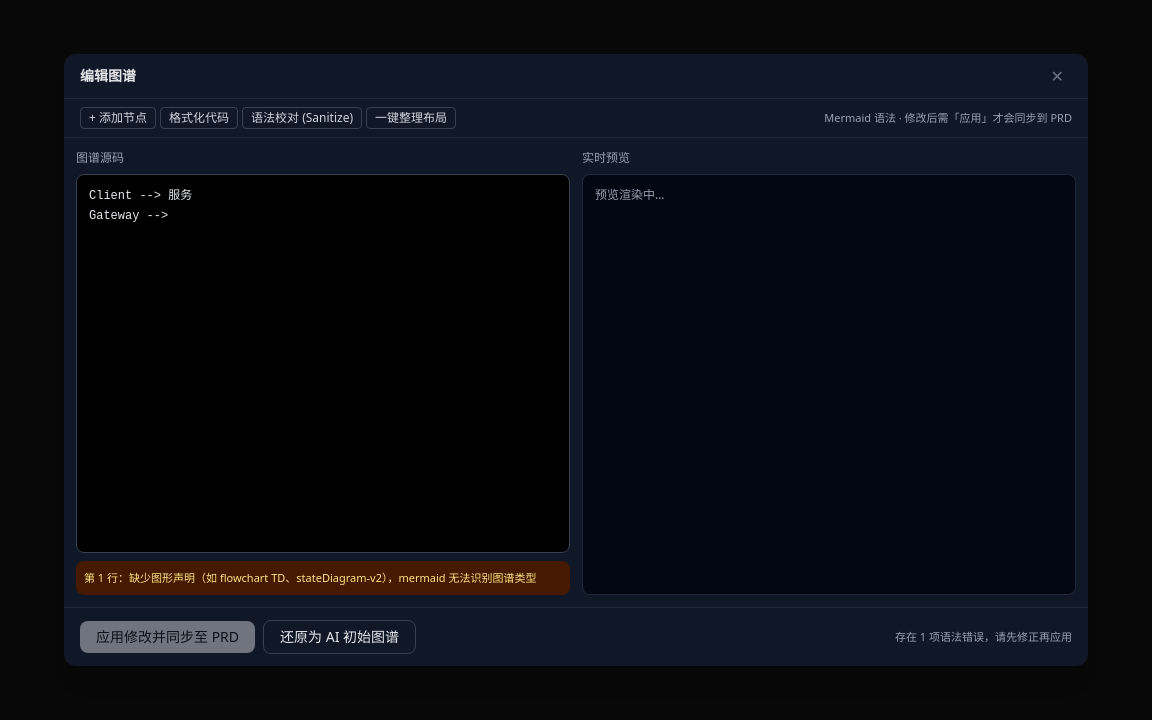
Test: MermaidEditorModal W27：语法校对与布局整理 › 「语法校对 (Sanitize)」修补畸形代码并提示修复处数
This screenshot has width=1152, height=720.
Click the button "语法校对 (Sanitize)".
click(302, 118)  # box [242,107,362,129]
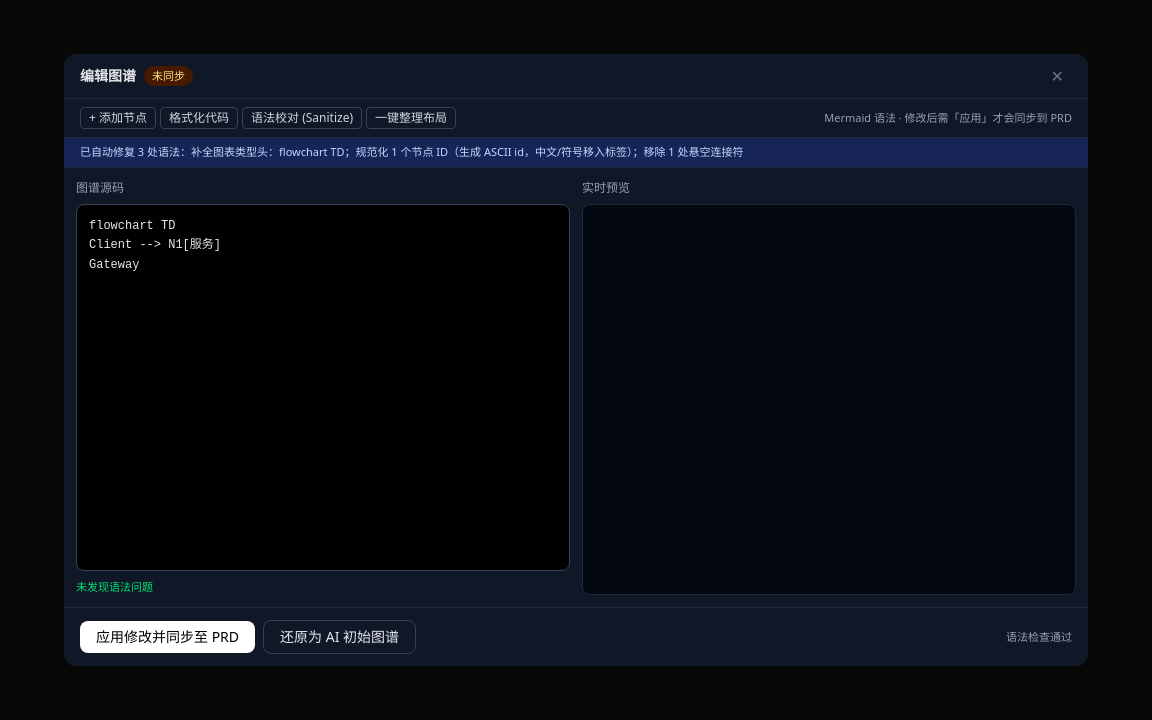
expect the text "已自动修复 3 处语法" is shown: met, box [80,144,744,159]
